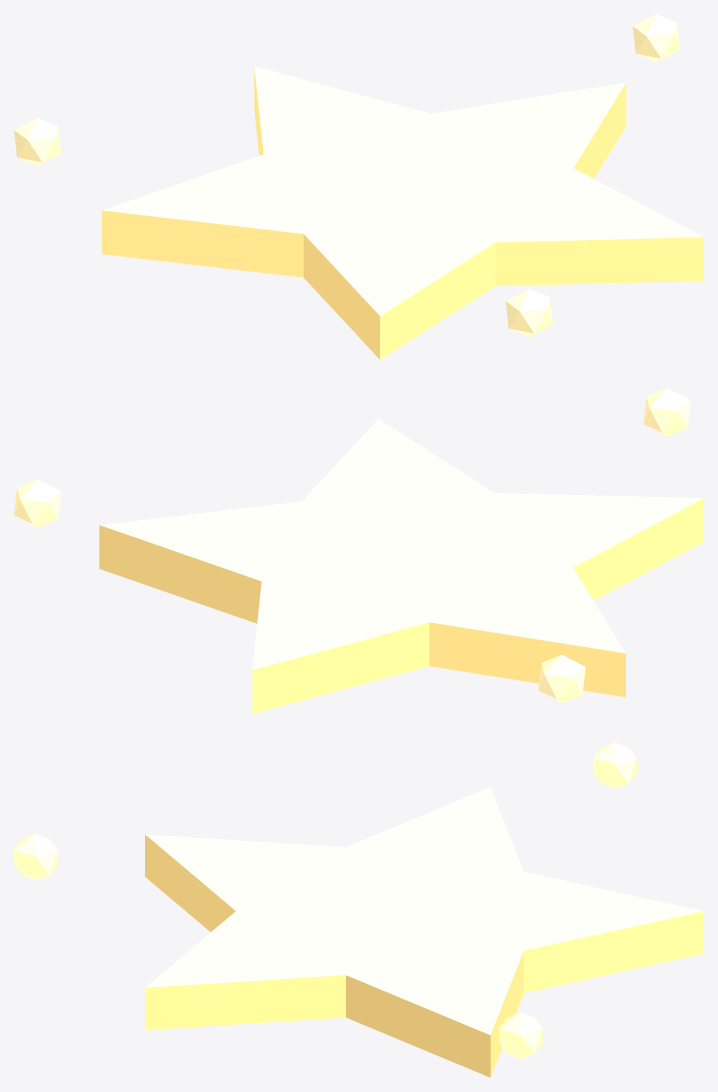
Rendered from mdl_env_starway_platform.glb.
3 renders of one model, top to bottom at view 1: azimuth 30°, elevation 25°; view 2: azimuth 150°, elevation 25°; view 3: azimuth 270°, elevation 25°, orthographic. The views are drawn at different scales.
Visible parts, largest first — view 1: Five point star platform, Orbiting star mote, Orbiting star mote.001, Orbiting star mote.002; view 2: Five point star platform, Orbiting star mote, Orbiting star mote.002, Orbiting star mote.001; view 3: Five point star platform, Orbiting star mote, Orbiting star mote.001, Orbiting star mote.002.
Boxes of the visible parts, x1,y1,x2,y2 form: Five point star platform: (102, 66, 703, 359); Orbiting star mote: (632, 14, 679, 61); Orbiting star mote.001: (14, 118, 60, 165); Orbiting star mote.002: (505, 289, 552, 336); Five point star platform: (99, 419, 703, 713); Orbiting star mote: (14, 479, 61, 527); Orbiting star mote.002: (643, 388, 690, 436); Orbiting star mote.001: (538, 655, 585, 702); Five point star platform: (145, 787, 703, 1077); Orbiting star mote: (499, 1012, 542, 1058); Orbiting star mote.001: (593, 742, 636, 788); Orbiting star mote.002: (14, 834, 57, 880).
Size of the model in its own units: 2.93 by 0.41 by 2.95.
